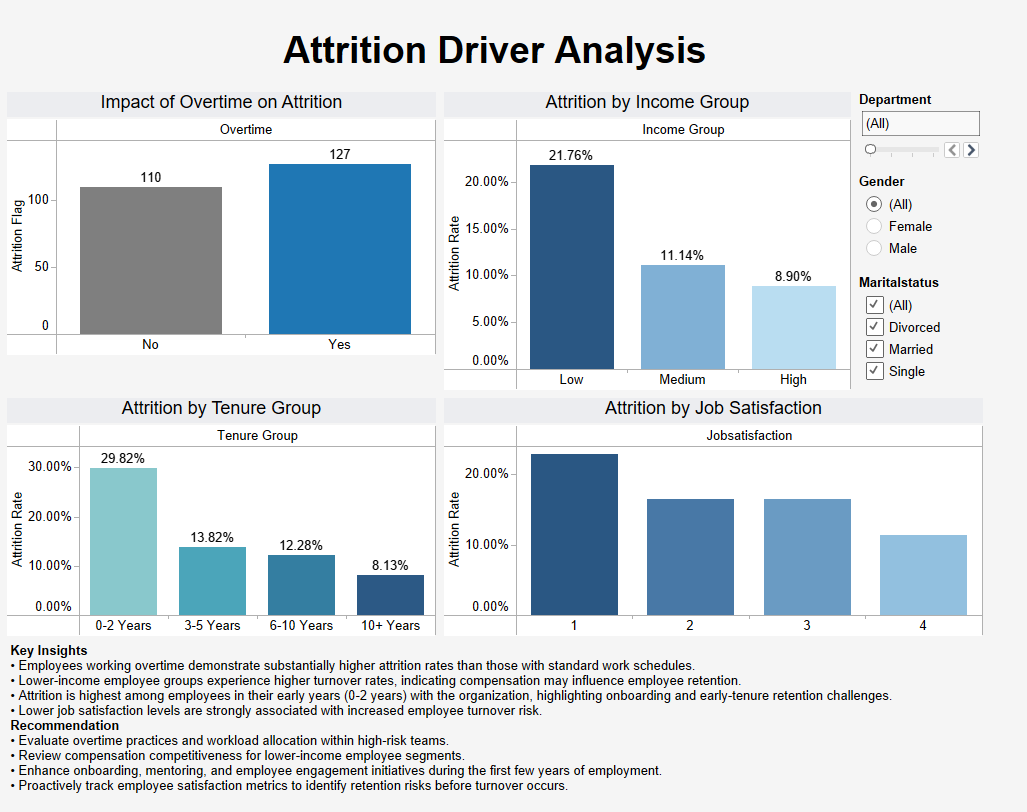

Layout of this report page (visuals, bound fields, positions):
{"tool":"tableau","page":{"name":"Dashboard 2","canvas":[1000,800],"ordinal":1},"visuals":[{"type":"text","box":[8,8,984,75]},{"type":"worksheet","title":"Impact of Overtime on Attrition","mark":"Bar","rows":["Calculation_1731634067928256514"],"cols":["overtime"],"box":[8,83,437,271]},{"type":"worksheet","title":"Attrition by Income Group","mark":"Bar","rows":["Calculation_1731634067928555523"],"cols":["Calculation_1731634067928862724"],"box":[445,83,414.5,306]},{"type":"filter","title":"Impact of Overtime on Attrition","param":"[federated.0qavisd17s4cvy1b894ll1u8j9ub].[none:department:nk]","box":[859.5,83,132.5,82]},{"type":"filter","title":"Impact of Overtime on Attrition","param":"[federated.0qavisd17s4cvy1b894ll1u8j9ub].[none:gender:nk]","box":[859.5,165,132.5,101]},{"type":"filter","title":"Impact of Overtime on Attrition","param":"[federated.0qavisd17s4cvy1b894ll1u8j9ub].[none:maritalstatus:nk]","box":[859.5,266,132.5,118]},{"type":"worksheet","title":"Attrition by Tenure Group","mark":"Bar","rows":["Calculation_1731634067928555523"],"cols":["Calculation_1731634067929231365"],"box":[8,389,437,246]},{"type":"worksheet","title":"Attrition by Job Satisfaction","mark":"Bar","rows":["Calculation_1731634067928555523"],"cols":["jobsatisfaction"],"box":[445,389,547,246]},{"type":"text","box":[8,635,984,157]}]}

Visuals, with their boxes in screenshot pixels (x1, y1, x2, y2), scaled from the page's 1000x800 canvas onto the 1027x812 screenshot:
text: (left=8, top=8, right=1019, bottom=84)
"Impact of Overtime on Attrition" worksheet (Bar marks): (left=8, top=84, right=457, bottom=359)
"Attrition by Income Group" worksheet (Bar marks): (left=457, top=84, right=883, bottom=395)
"Impact of Overtime on Attrition" filter: (left=883, top=84, right=1019, bottom=167)
"Impact of Overtime on Attrition" filter: (left=883, top=167, right=1019, bottom=270)
"Impact of Overtime on Attrition" filter: (left=883, top=270, right=1019, bottom=390)
"Attrition by Tenure Group" worksheet (Bar marks): (left=8, top=395, right=457, bottom=645)
"Attrition by Job Satisfaction" worksheet (Bar marks): (left=457, top=395, right=1019, bottom=645)
text: (left=8, top=645, right=1019, bottom=804)
